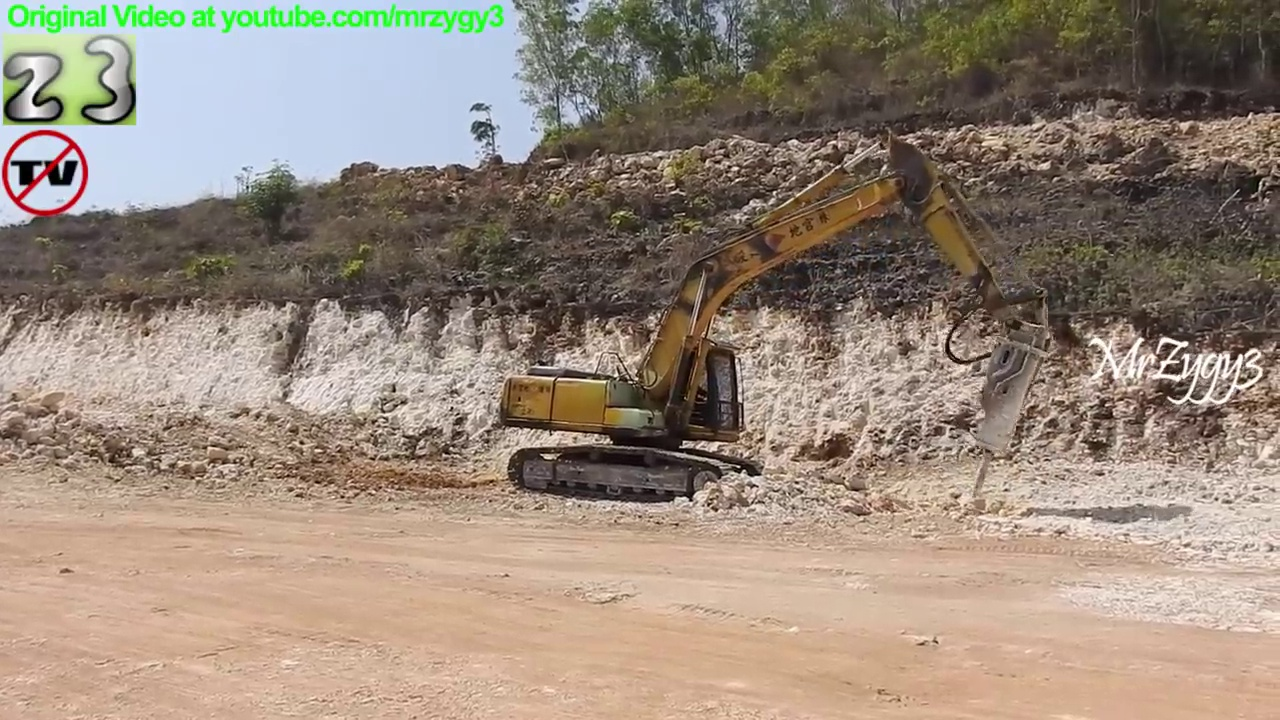excavator breaker: (492, 127, 1057, 513)
